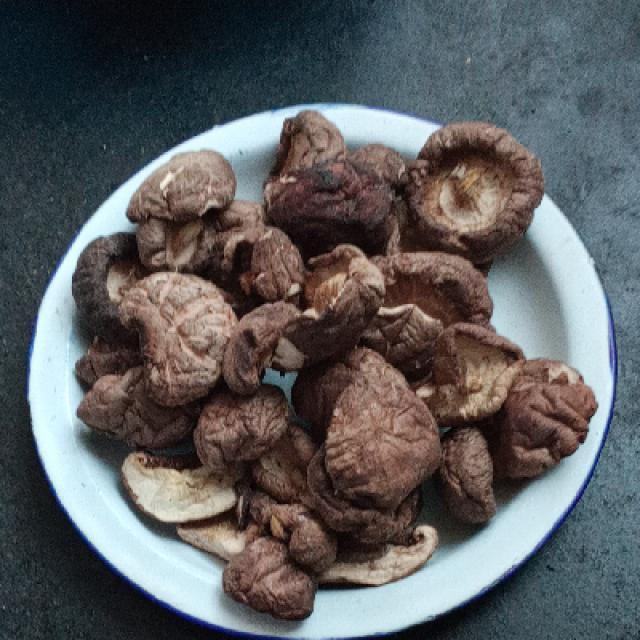Lentinus edodes: (75, 111, 603, 616)
